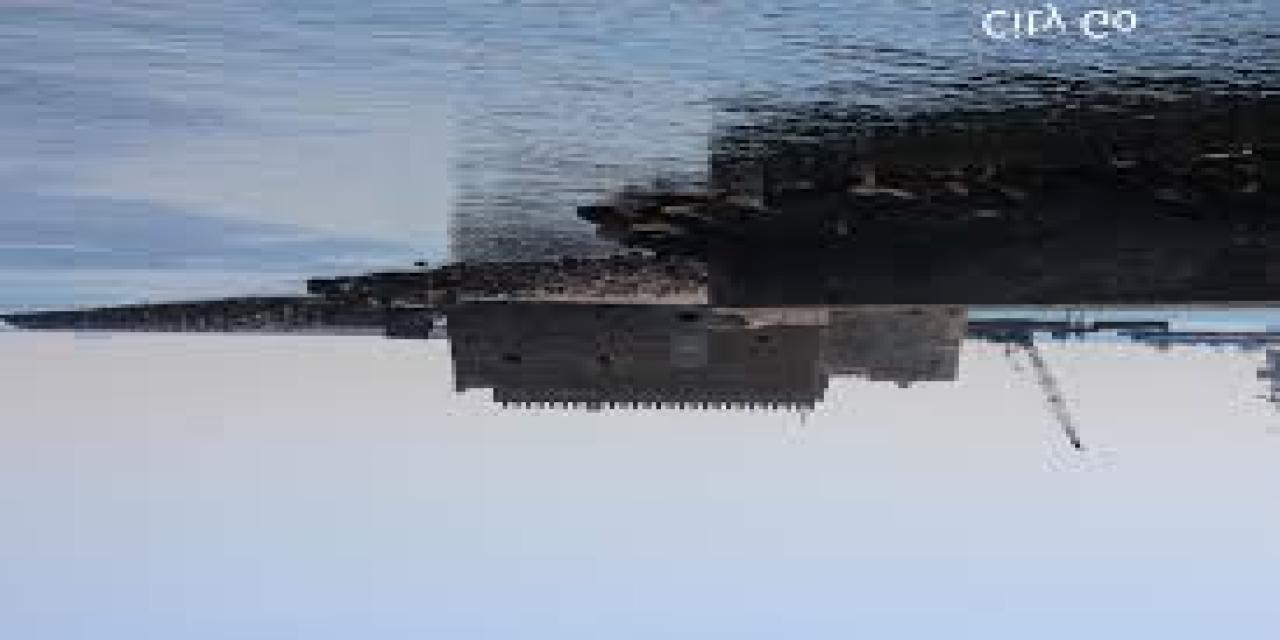Kules: (451, 299, 985, 421)
